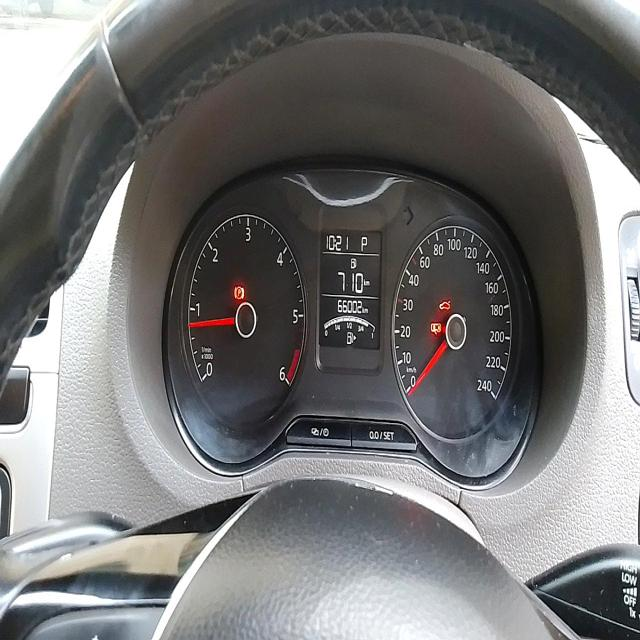odometer: (336, 296, 363, 316)
